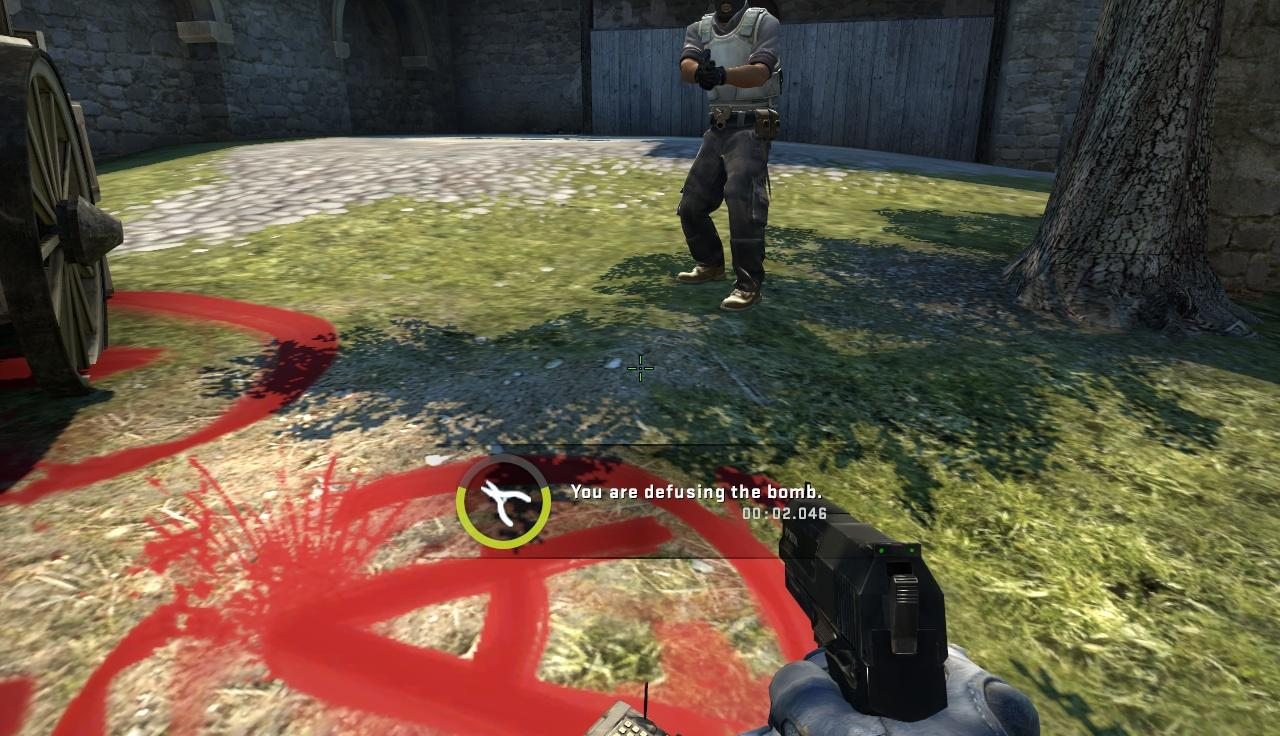pistol: (766, 480, 1034, 736)
tt: (686, 0, 778, 311)
